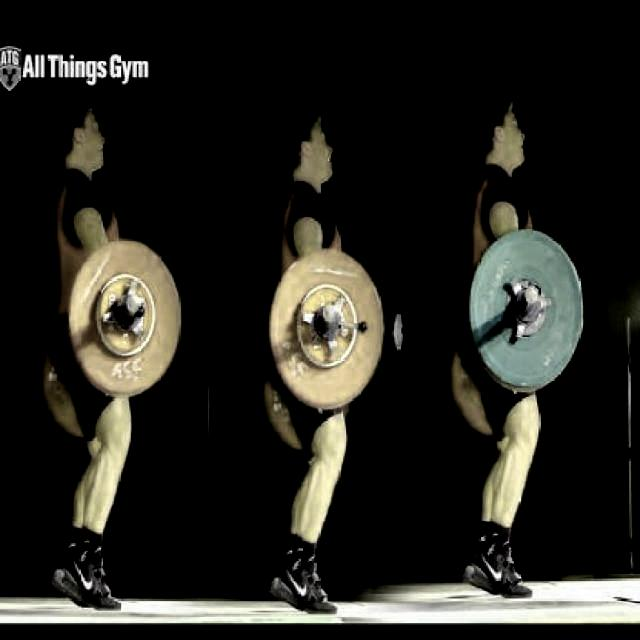barbell: (465, 221, 590, 395), (262, 245, 387, 412), (65, 235, 185, 400)
